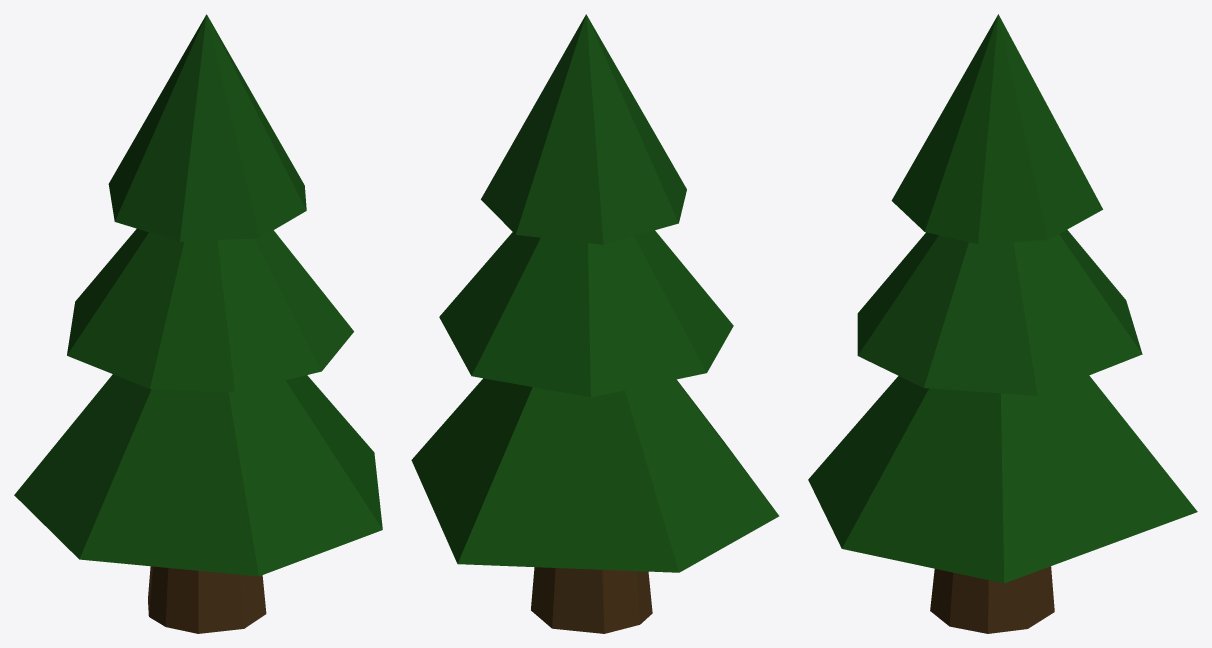
File: tree2.fbx
3 views of the same model, side by side, from view 1: azimuth 30°, elevation 25°; view 2: azimuth 150°, elevation 25°; view 3: azimuth 270°, elevation 25° (orthographic).
Parts seen in each view (by area): view 1: Cone.002, Cylinder; view 2: Cone.002, Cylinder; view 3: Cone.002, Cylinder.
Part boxes in pixels (box(x1,y1,x2,y2)): Cone.002: box(14, 14, 382, 576); Cylinder: box(148, 566, 266, 633); Cone.002: box(411, 14, 779, 572); Cylinder: box(531, 567, 652, 633); Cone.002: box(808, 14, 1197, 583); Cylinder: box(930, 566, 1054, 633).
Size of the model in its own units: 451 by 771 by 458.
